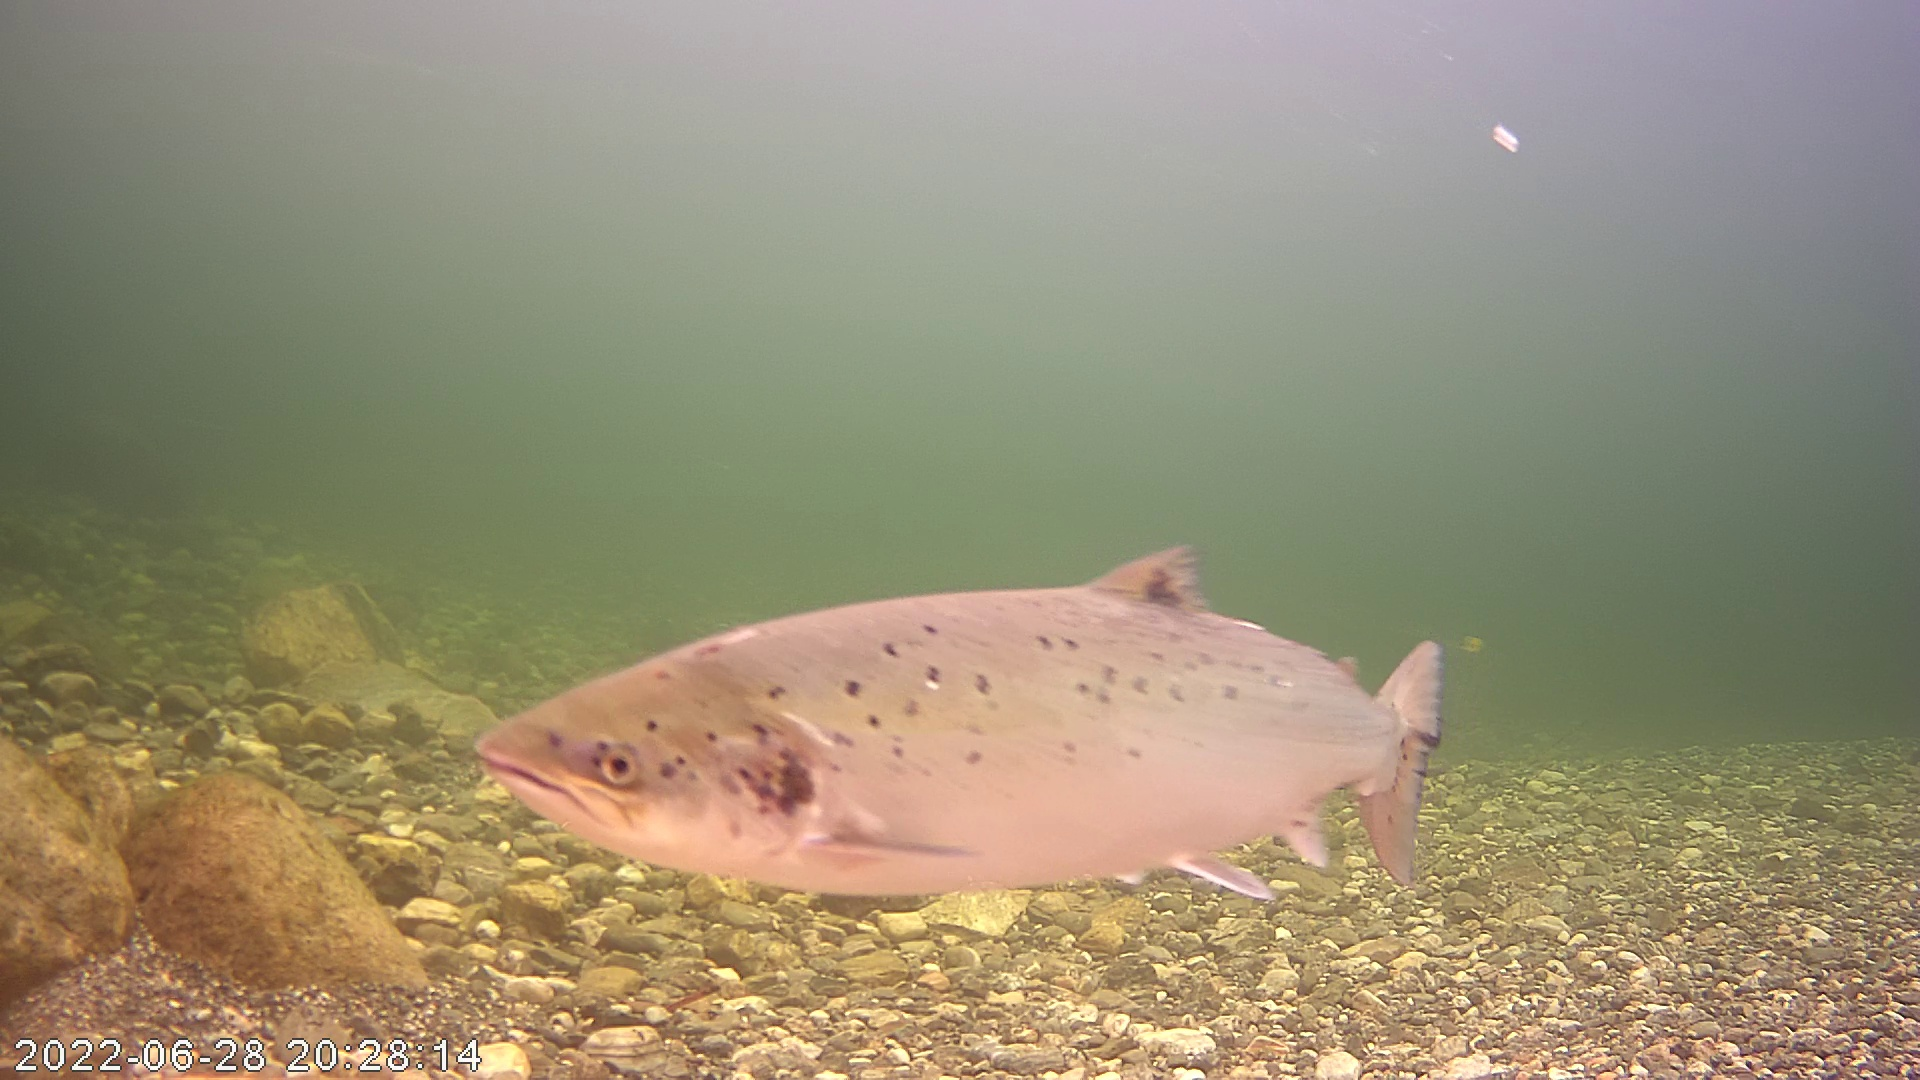salmon: (484, 496, 1466, 905)
